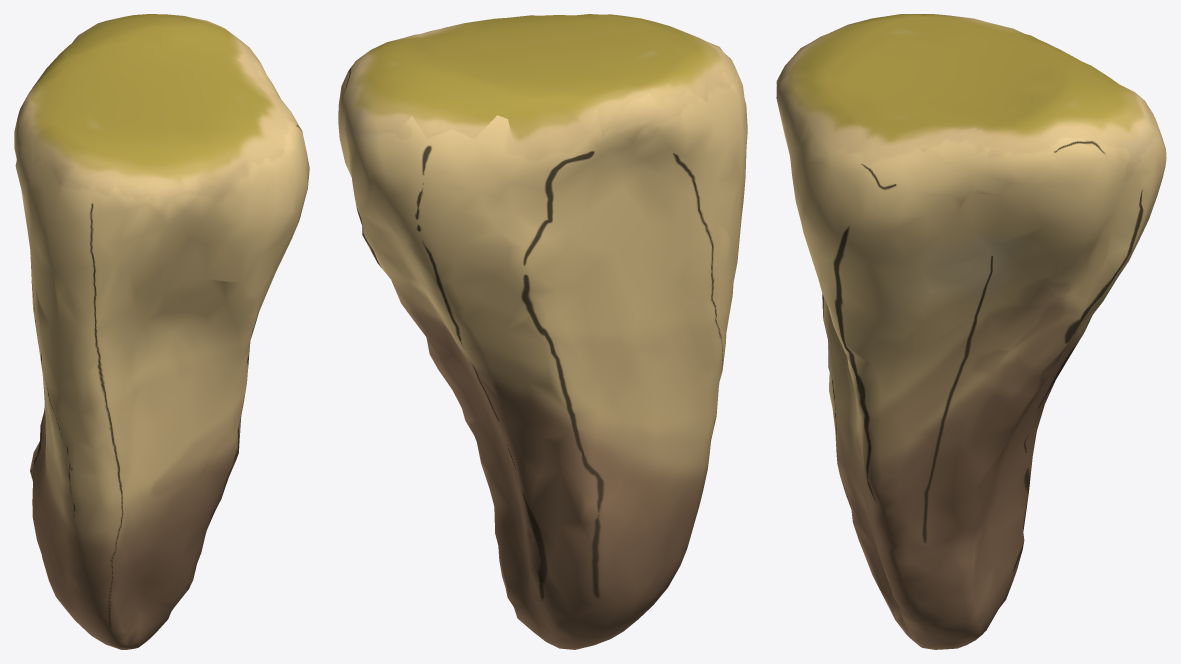
The model's file is BaseIsland__2.fbx.
3 renders of one model, left to right at view 1: azimuth 30°, elevation 25°; view 2: azimuth 150°, elevation 25°; view 3: azimuth 270°, elevation 25°, orthographic. The views are drawn at different scales.
Parts seen in each view (by area): view 1: BaseIsland_2; view 2: BaseIsland_2; view 3: BaseIsland_2.
Boxes of the visible parts, x1,y1,x2,y2 form: BaseIsland_2: [14, 14, 309, 649]; BaseIsland_2: [338, 14, 747, 649]; BaseIsland_2: [776, 14, 1166, 649].
Size of the model in its own units: 2040 by 3869 by 2277.
Materials: 1 (1 with a texture image).
